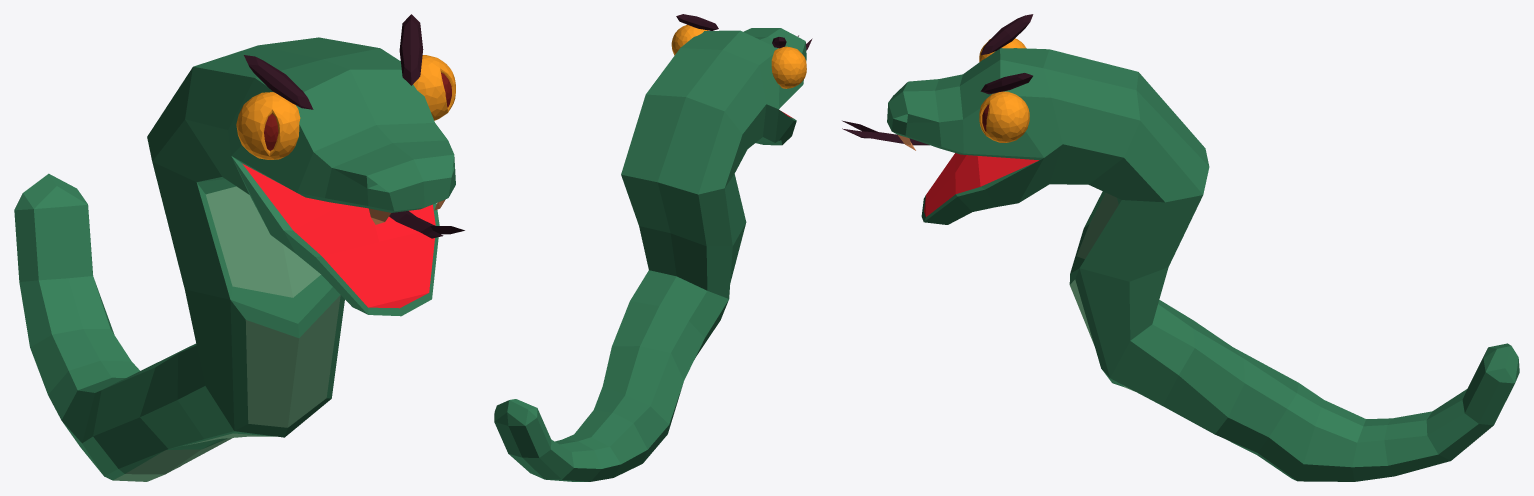
File: Snake_Angry_000008.obj
3 renders of one model, left to right at view 1: azimuth 30°, elevation 25°; view 2: azimuth 150°, elevation 25°; view 3: azimuth 270°, elevation 25°, orthographic. The views are drawn at different scales.
Visible parts, largest first — view 1: Snake_Cylinder; view 2: Snake_Cylinder; view 3: Snake_Cylinder.
Part boxes in pixels (x1,y1,x2,y2): Snake_Cylinder: (14,14,464,481); Snake_Cylinder: (494,14,812,481); Snake_Cylinder: (842,14,1519,481).
Bounding box in the file's own units: 1.05 × 2.73 × 3.88.
